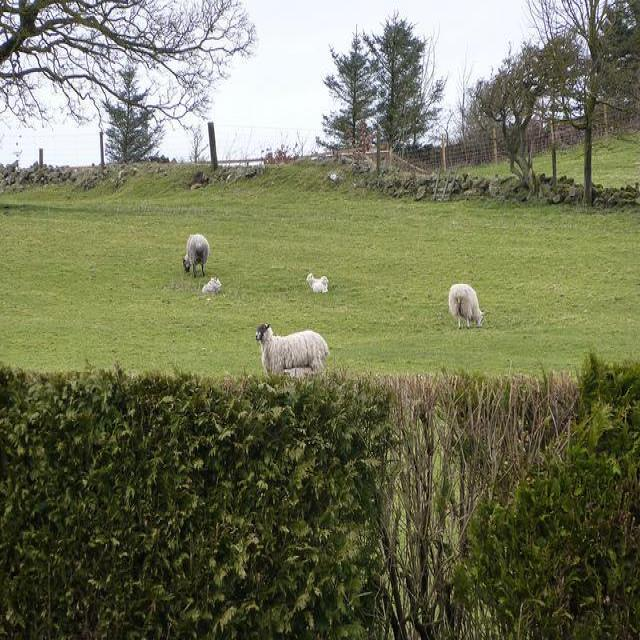Sheep: (255, 321, 331, 383), (449, 281, 489, 335)
